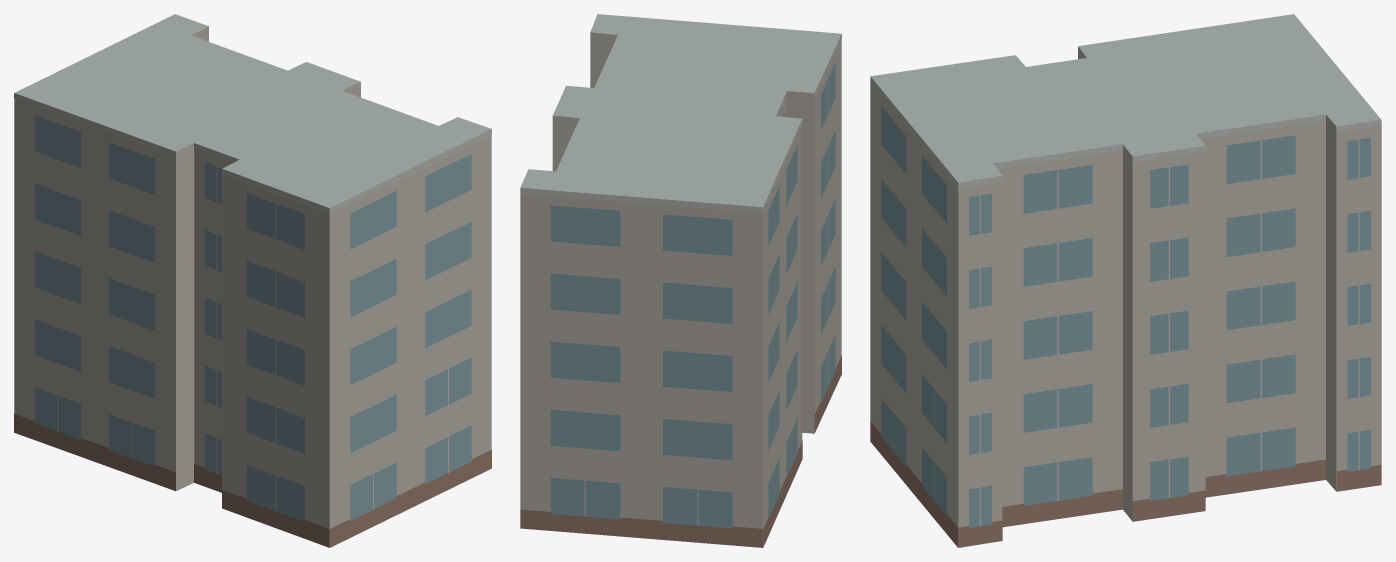
Rendered from survey-upis-32945263.glb.
3 renders of one model, left to right at view 1: azimuth 30°, elevation 25°; view 2: azimuth 150°, elevation 25°; view 3: azimuth 270°, elevation 25°, orthographic. The views are drawn at different scales.
Parts seen in each view (by area): view 1: survey-upis-32945263.tmp; view 2: survey-upis-32945263.tmp; view 3: survey-upis-32945263.tmp.
Part boxes in pixels (x1,y1,x2,y2): survey-upis-32945263.tmp: (14, 14, 491, 547); survey-upis-32945263.tmp: (520, 14, 841, 547); survey-upis-32945263.tmp: (870, 14, 1381, 547).
Bounding box in the file's own units: 14.22 × 14.35 × 18.21.
